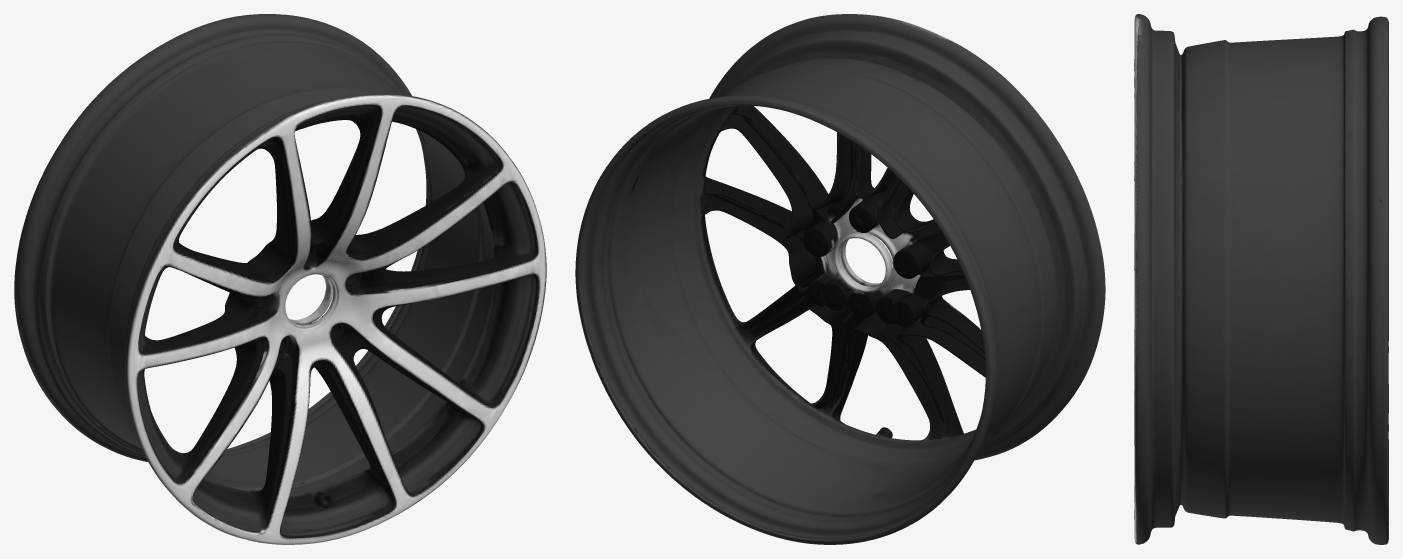
File: rim-bbs-lm.glb
3 renders of one model, left to right at view 1: azimuth 30°, elevation 25°; view 2: azimuth 150°, elevation 25°; view 3: azimuth 270°, elevation 25°, orthographic. The views are drawn at different scales.
Visible parts, largest first — view 1: node_0; view 2: node_0; view 3: node_0.
Part boxes in pixels (x1=…): node_0: x1=14, y1=14, x2=546, y2=544; node_0: x1=575, y1=14, x2=1105, y2=544; node_0: x1=1134, y1=14, x2=1388, y2=544.
Size of the model in its own units: 1.09 by 1.09 by 0.5215.
Materials: 1 (1 with a texture image).
